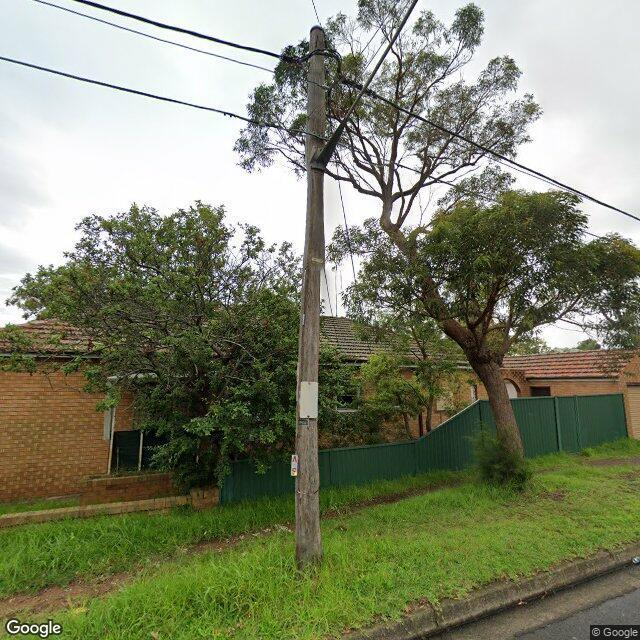streetlight: (312, 0, 418, 167)
timber-pole: (294, 27, 332, 578)
